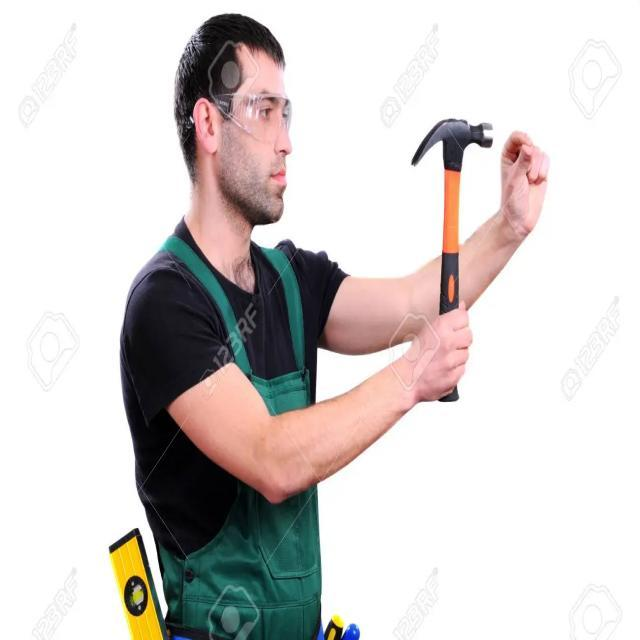hammer: (406, 74, 504, 418)
